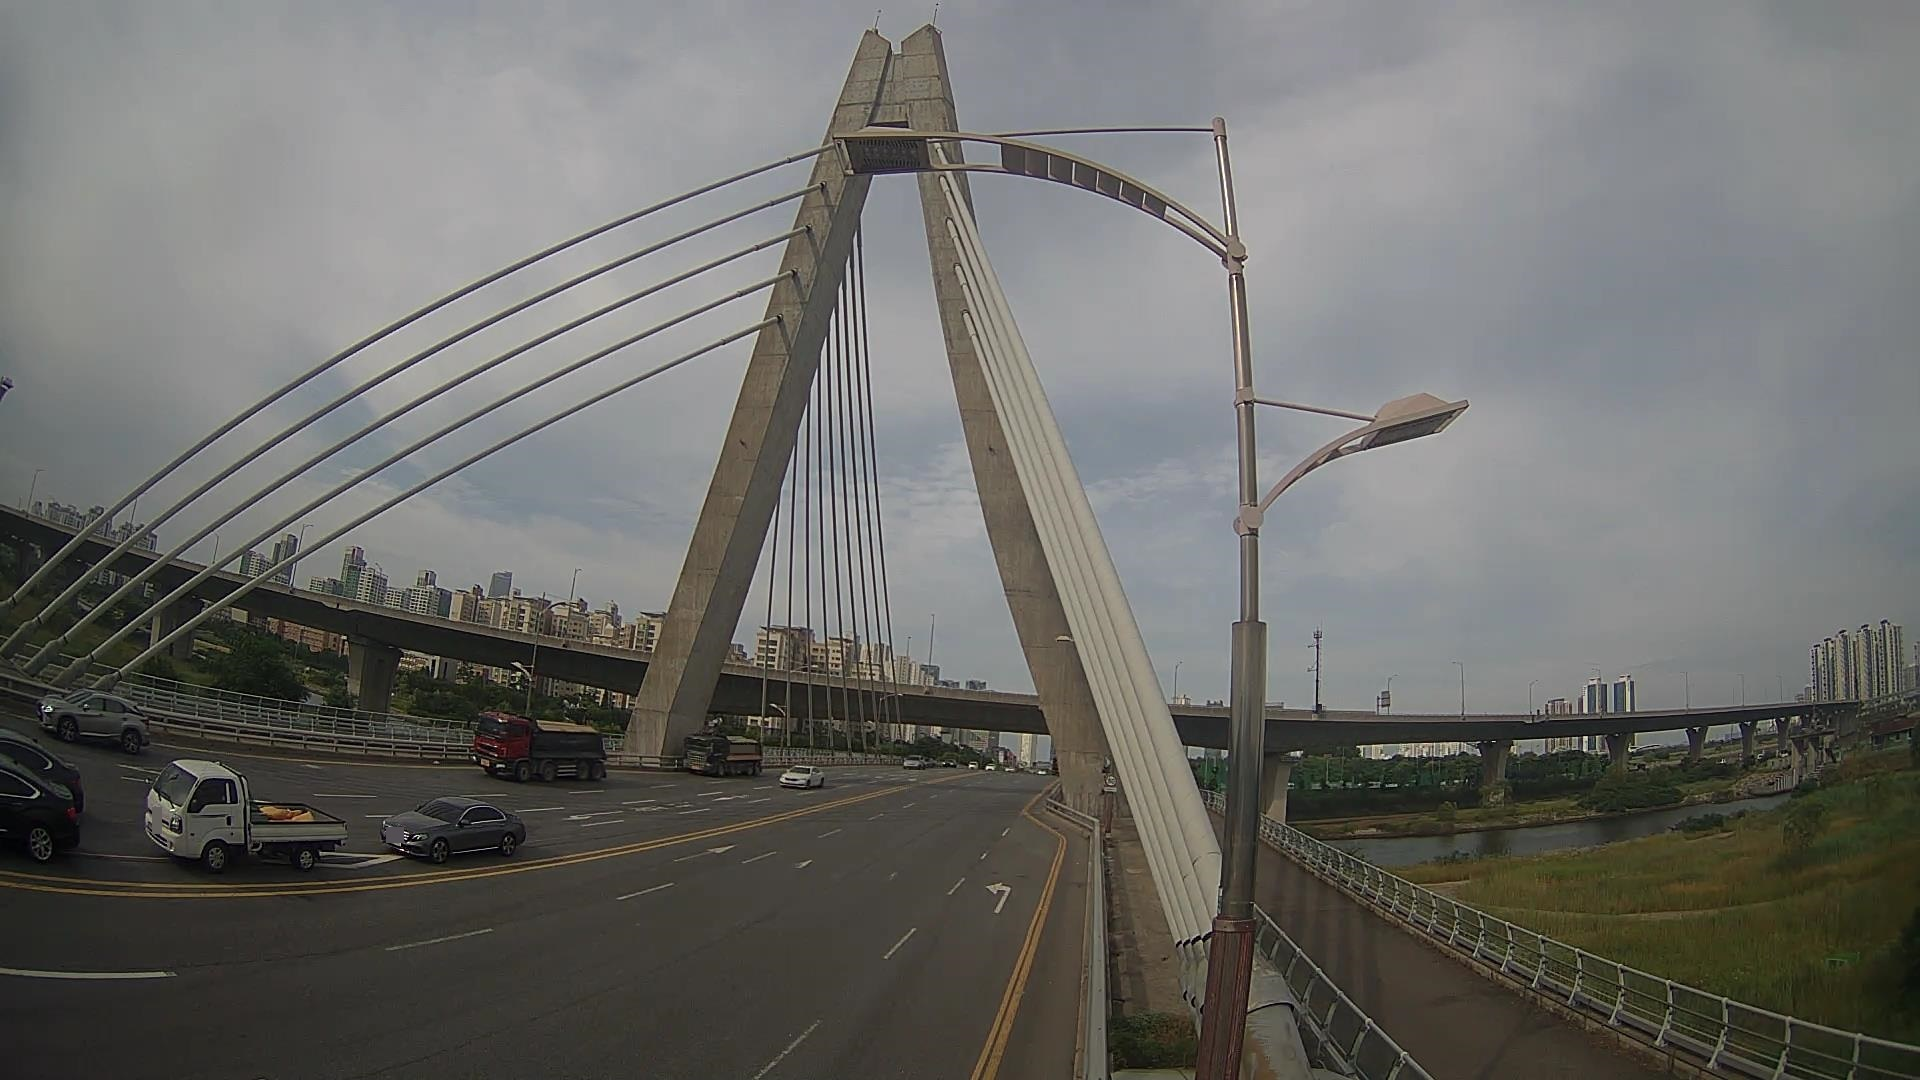정상차량: (473, 712, 608, 783)
